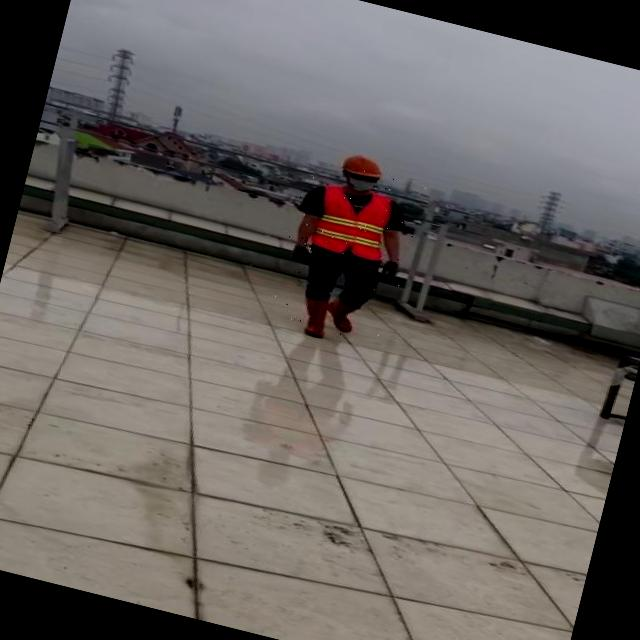boots: (321, 292, 363, 334), (292, 294, 328, 338)
helmet: (339, 149, 387, 182)
vest: (307, 180, 398, 264)
